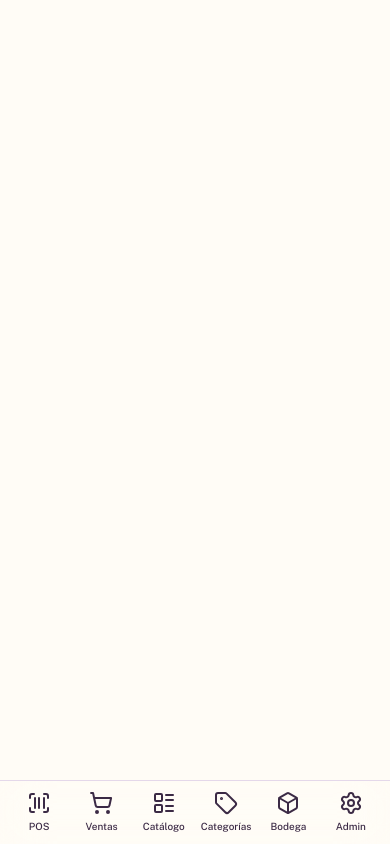
Test: BottomNav — sheet Administración: Inversión en Mercadería › rol admin: incluye el link a /admin/inversion-mercaderia
The width and height of the screenshot is (390, 844).
Click the button "Admin" at (351, 812), box [323, 781, 379, 843]
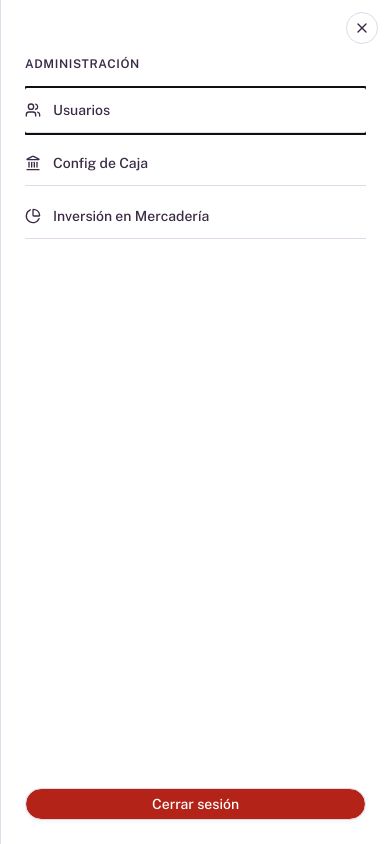
Result: the link "Inversión en Mercadería" is shown at [25, 194, 366, 239]
